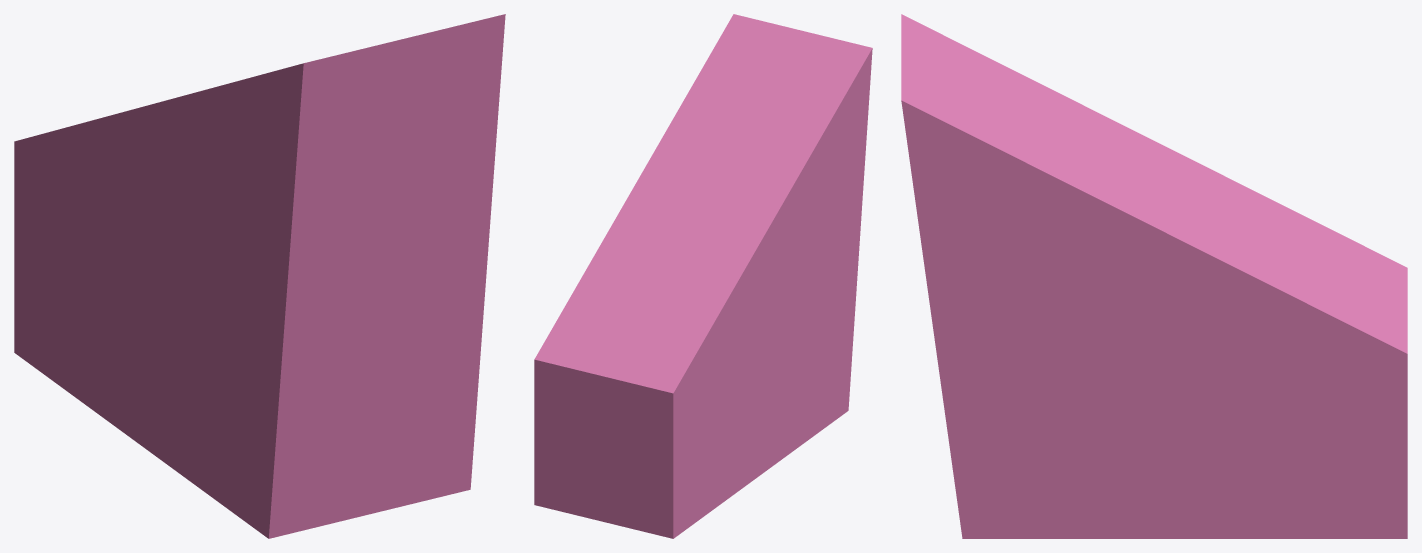
File: hair6.fbx
3 views of the same model, side by side, from view 1: azimuth 30°, elevation 25°; view 2: azimuth 150°, elevation 25°; view 3: azimuth 270°, elevation 25° (orthographic). The views are drawn at different scales.
Visible parts, largest first — view 1: pCube13; view 2: pCube13; view 3: pCube13.
Boxes of the visible parts, left/top/right/bottom form: pCube13: left=14, top=14, right=505, bottom=538; pCube13: left=534, top=14, right=872, bottom=538; pCube13: left=901, top=14, right=1407, bottom=538.
Bounding box in the file's own units: 1 × 2.37 × 2.48.
